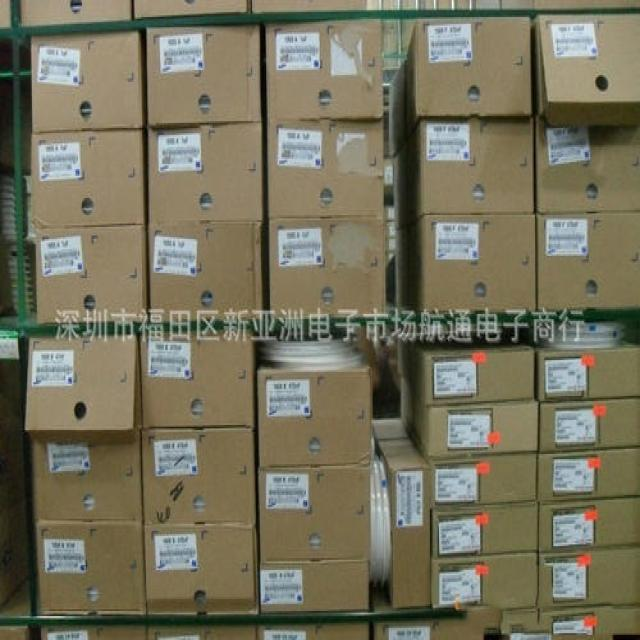box: (406, 15, 532, 133), (406, 119, 534, 225), (26, 335, 141, 445), (146, 24, 265, 128), (410, 215, 536, 312), (530, 14, 640, 125), (148, 123, 269, 222), (265, 19, 383, 119), (257, 365, 371, 468), (150, 222, 268, 321), (269, 217, 387, 316), (31, 31, 147, 131), (268, 118, 384, 217), (31, 131, 147, 229), (35, 225, 147, 324), (141, 428, 256, 524), (140, 331, 253, 428), (399, 379, 539, 456), (36, 519, 146, 616), (260, 466, 372, 560), (31, 428, 143, 522), (397, 328, 534, 404), (145, 524, 260, 614), (536, 212, 640, 311), (535, 116, 640, 212), (406, 430, 538, 505), (379, 439, 431, 609), (1, 360, 28, 614), (535, 340, 640, 404), (538, 546, 640, 609), (431, 551, 538, 609), (430, 500, 538, 556), (538, 445, 640, 502), (259, 560, 370, 611), (538, 398, 640, 451), (538, 498, 640, 550), (540, 606, 640, 635), (20, 0, 132, 24), (374, 620, 485, 640), (256, 623, 370, 640), (136, 0, 248, 17), (147, 623, 257, 640), (387, 61, 406, 155), (41, 625, 147, 640), (253, 0, 369, 12), (394, 227, 410, 312), (392, 145, 407, 230), (468, 604, 502, 633), (532, 0, 640, 9), (500, 611, 538, 635), (372, 418, 410, 440), (0, 625, 28, 640), (0, 0, 12, 27), (384, 157, 393, 186)
